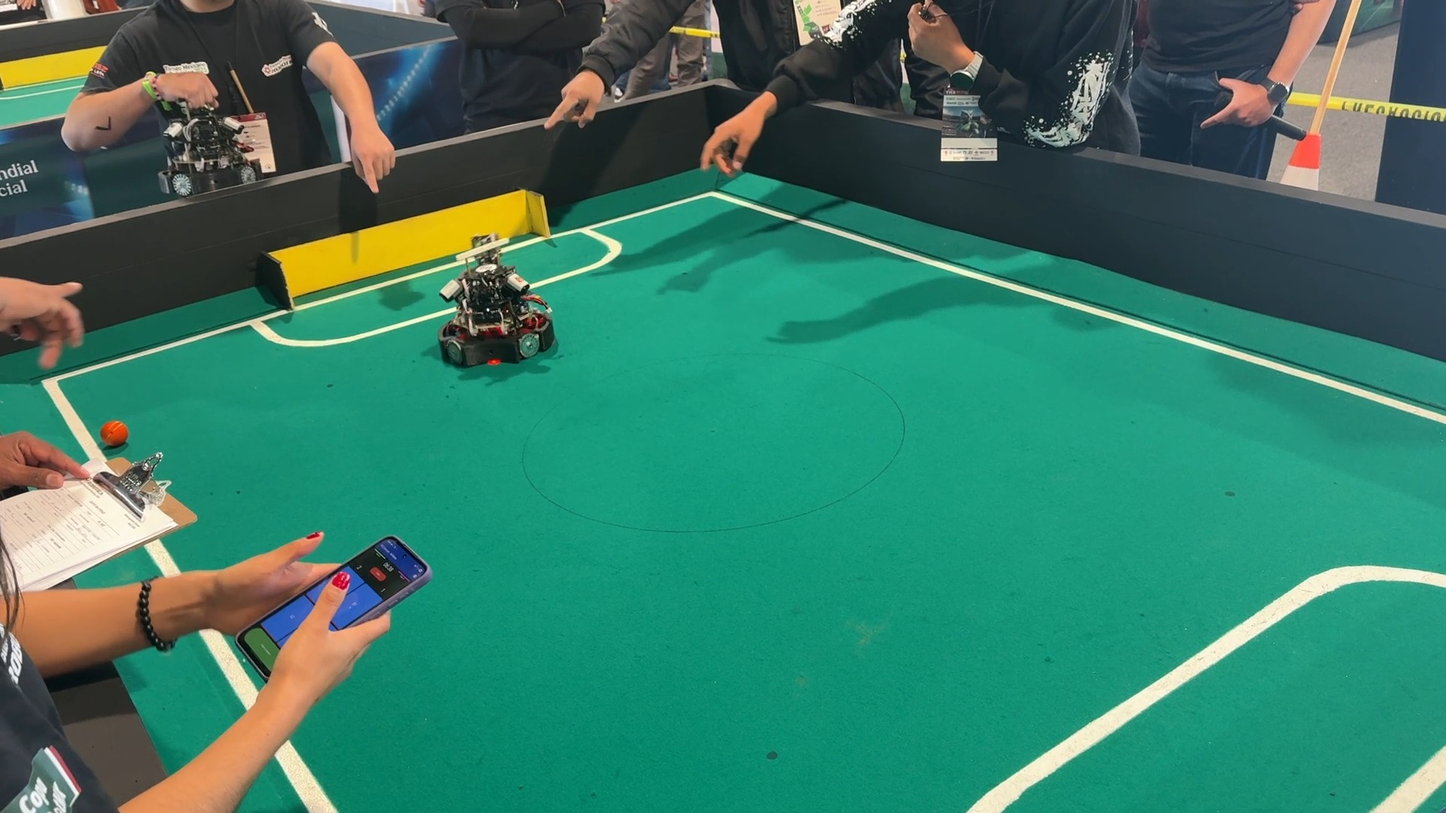Robot: (429, 223, 550, 392), (152, 94, 262, 200)
pelota: (98, 413, 141, 456)
